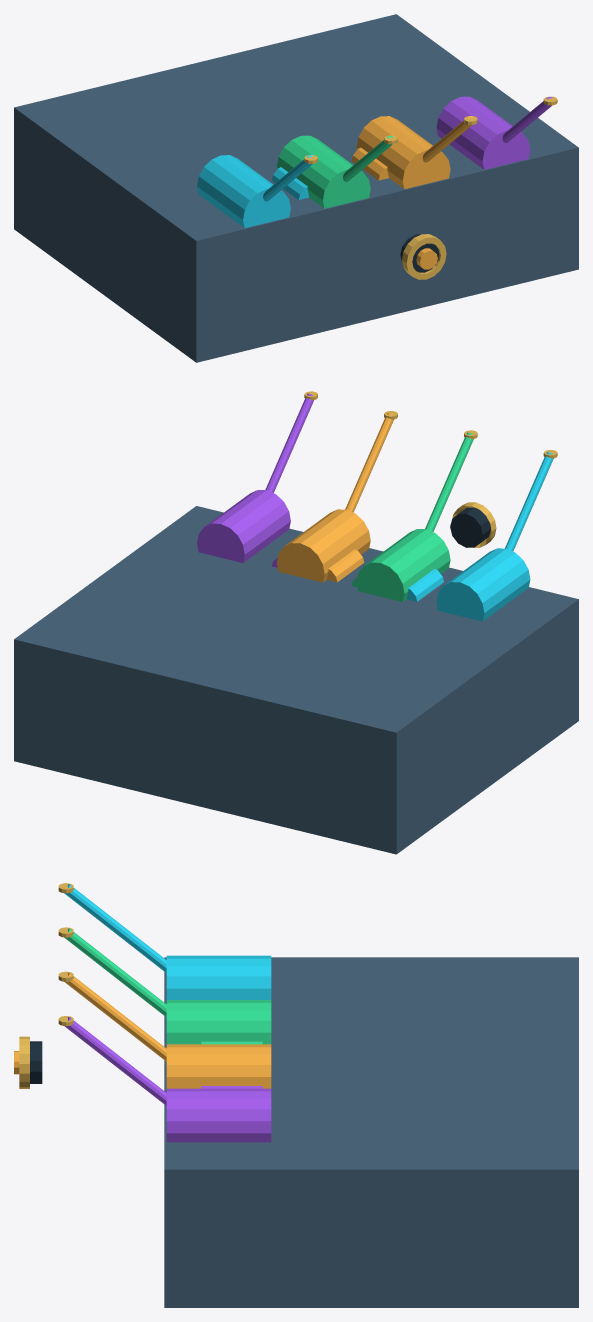
Rendered from 04_L81_OpticalTelemetryDock.fbx.
The picture shows the model from 3 angles, top to bottom: view 1: azimuth 30°, elevation 25°; view 2: azimuth 150°, elevation 25°; view 3: azimuth 270°, elevation 25°; orthographic projection. The views are drawn at different scales.
Parts seen in each view (by area): view 1: OpticalTelemetryDock, OpticalTelemetryDock_Part_0020, OpticalTelemetryDock_Part_0018; view 2: OpticalTelemetryDock, OpticalTelemetryDock_Part_0020, OpticalTelemetryDock_Part_0018; view 3: OpticalTelemetryDock.
Part boxes in pixels (x1=…): OpticalTelemetryDock: x1=14, y1=14, x2=578, y2=362; OpticalTelemetryDock_Part_0020: x1=351, y1=147, x2=388, y2=180; OpticalTelemetryDock_Part_0018: x1=272, y1=167, x2=308, y2=199; OpticalTelemetryDock: x1=14, y1=391, x2=578, y2=854; OpticalTelemetryDock_Part_0020: x1=327, y1=549, x2=364, y2=582; OpticalTelemetryDock_Part_0018: x1=407, y1=569, x2=443, y2=601; OpticalTelemetryDock: x1=14, y1=883, x2=578, y2=1307.
Size of the model in its own units: 115 by 63.38 by 129.
